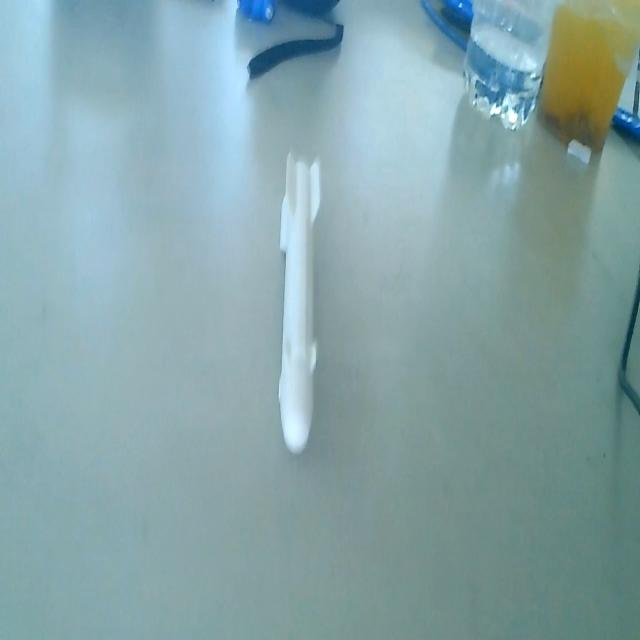Rocket: (275, 144, 320, 462)
